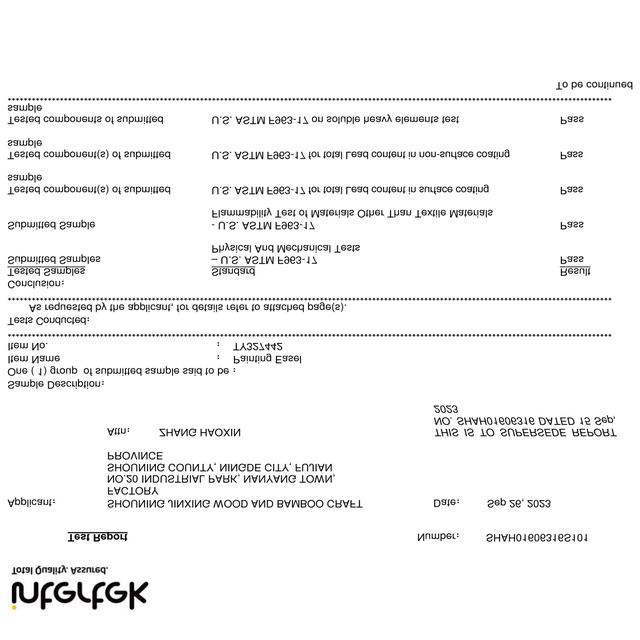intertek: (8, 578, 153, 611)
